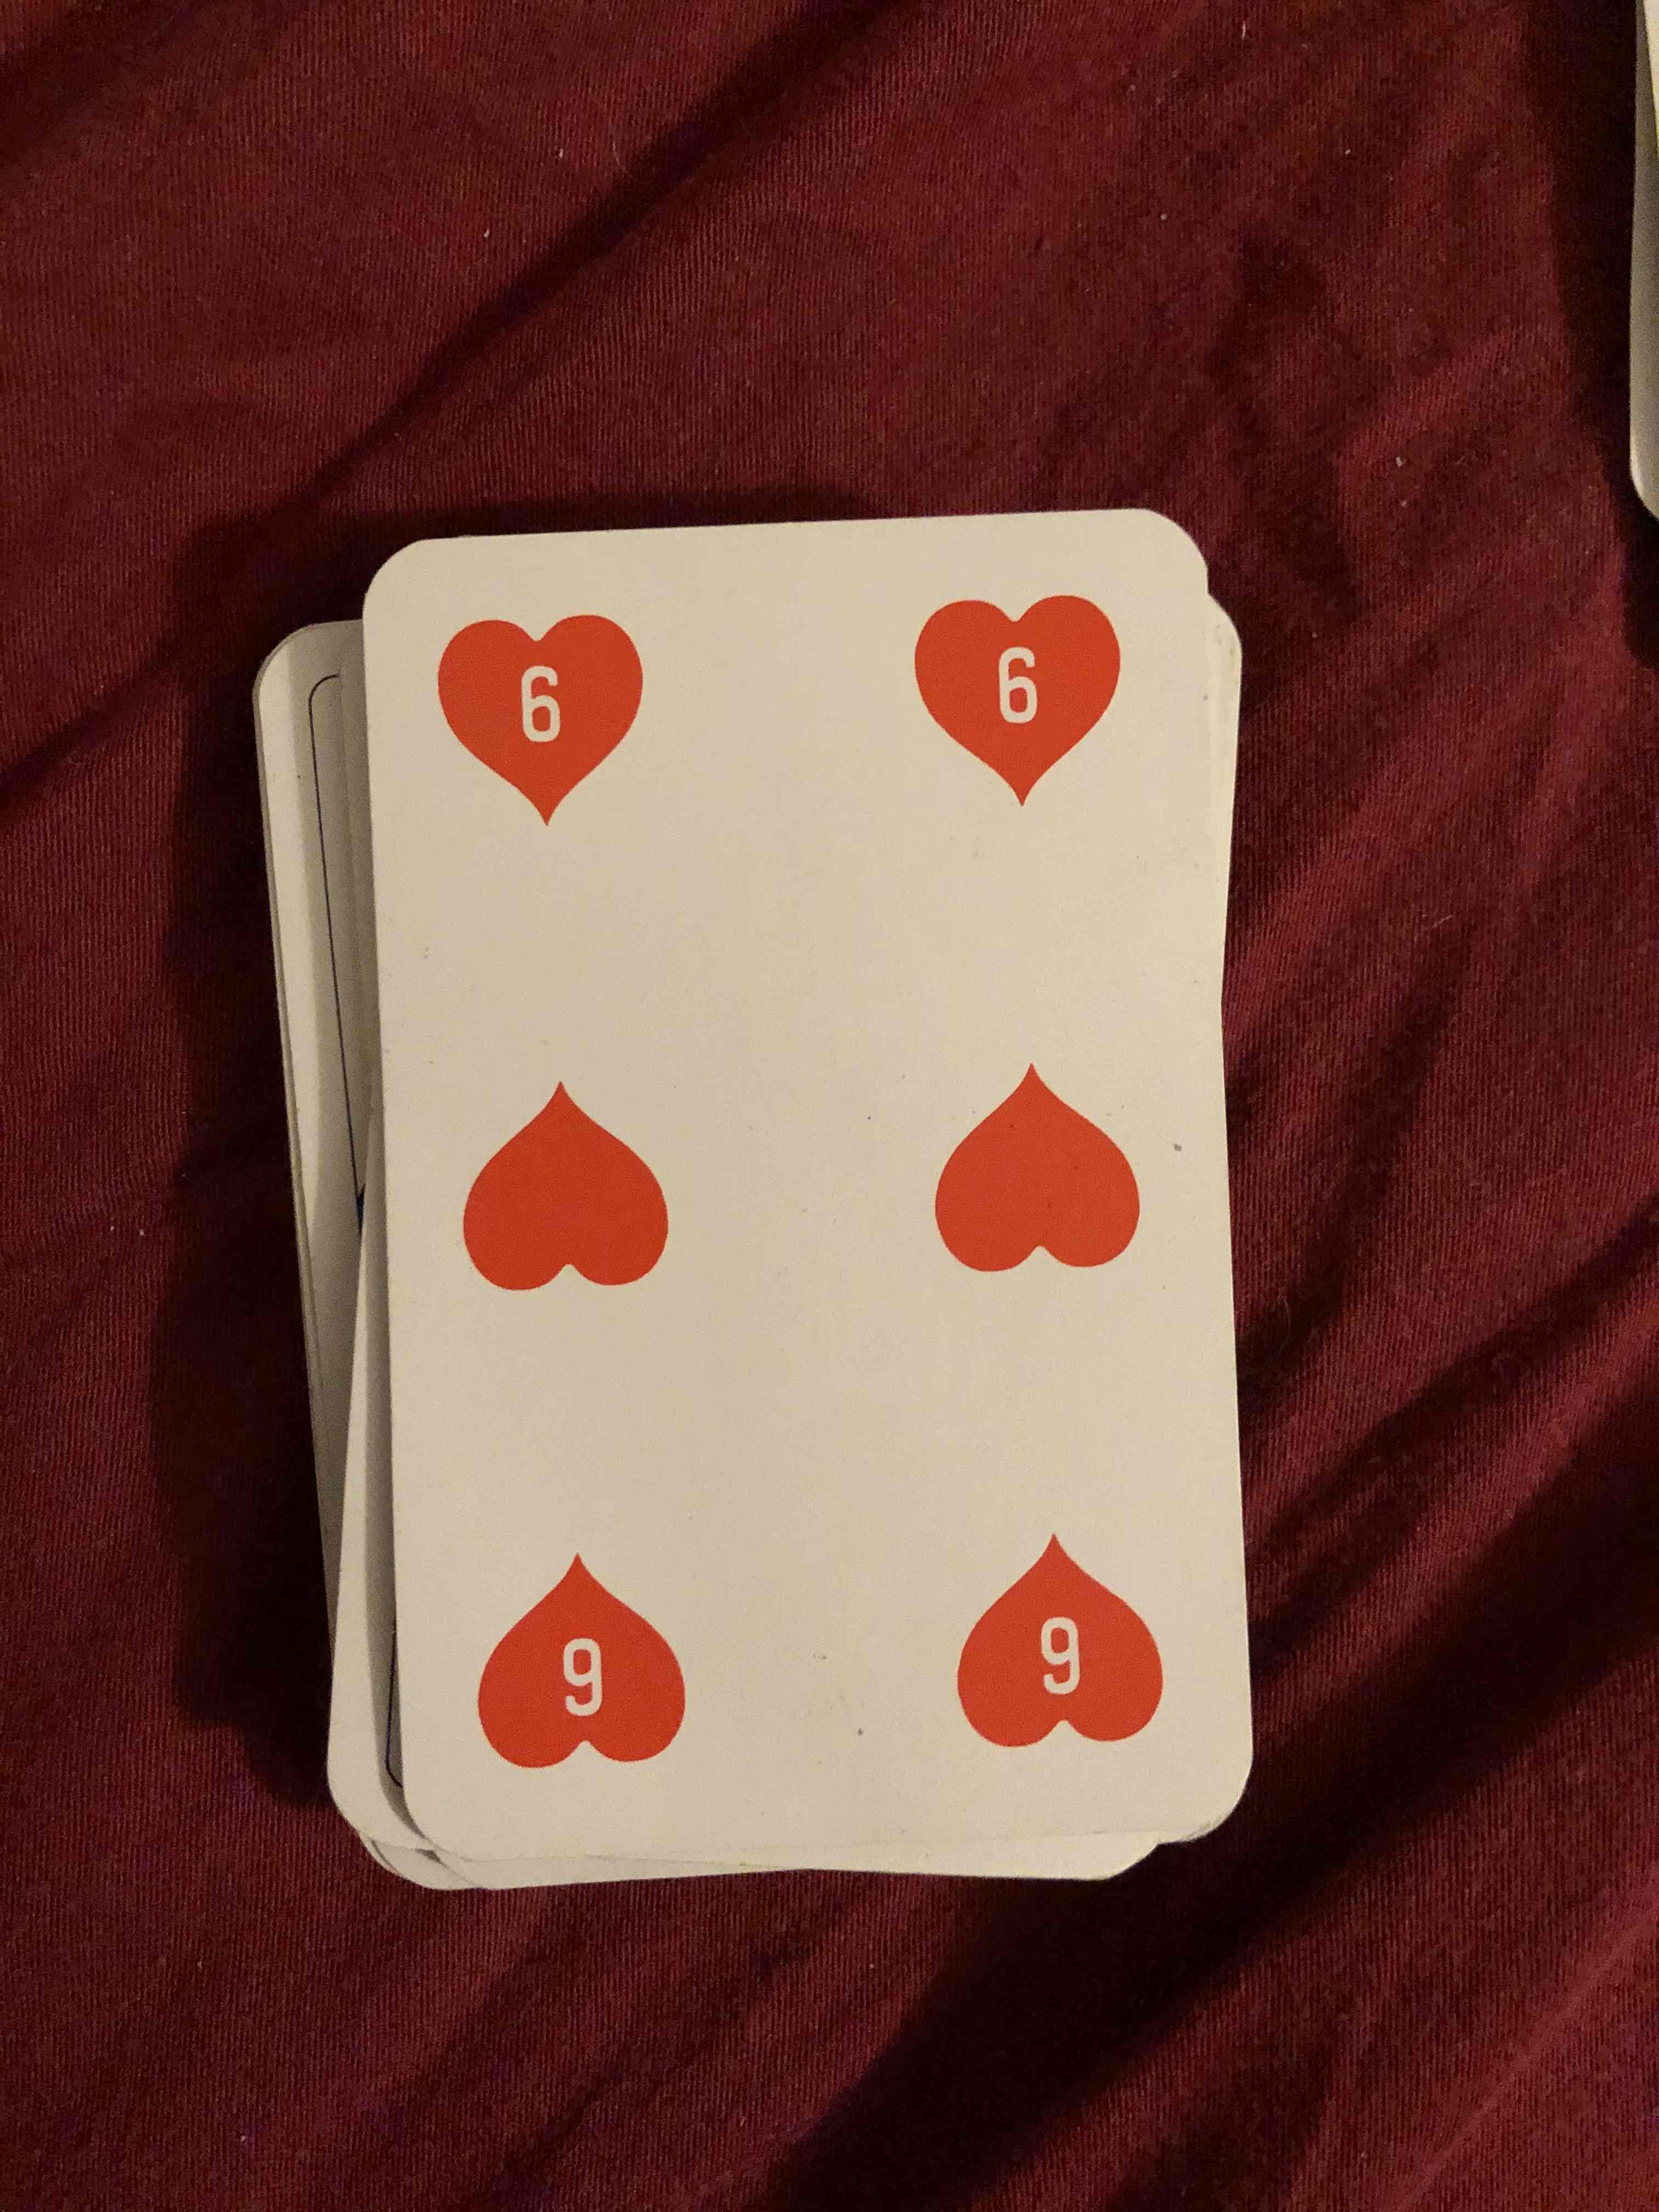hearts6: (382, 561, 1230, 1829)
